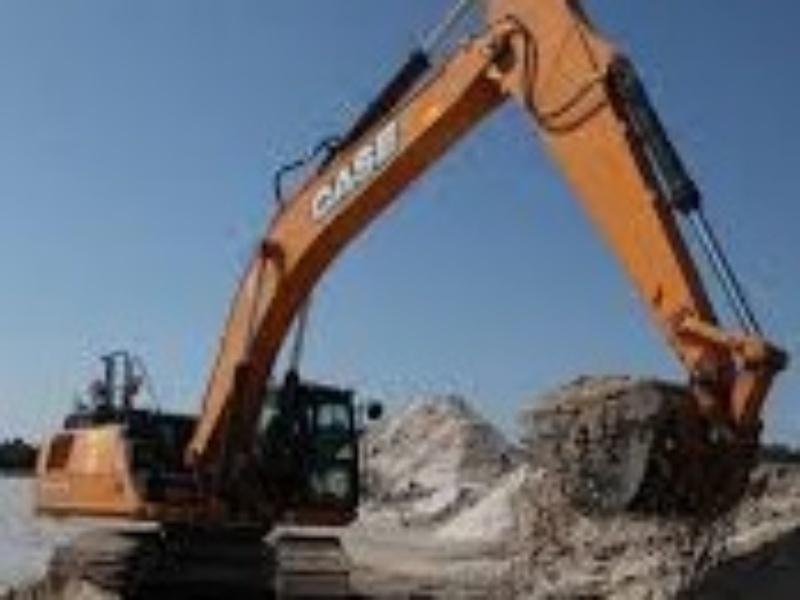wajueji: (12, 315, 429, 600)
